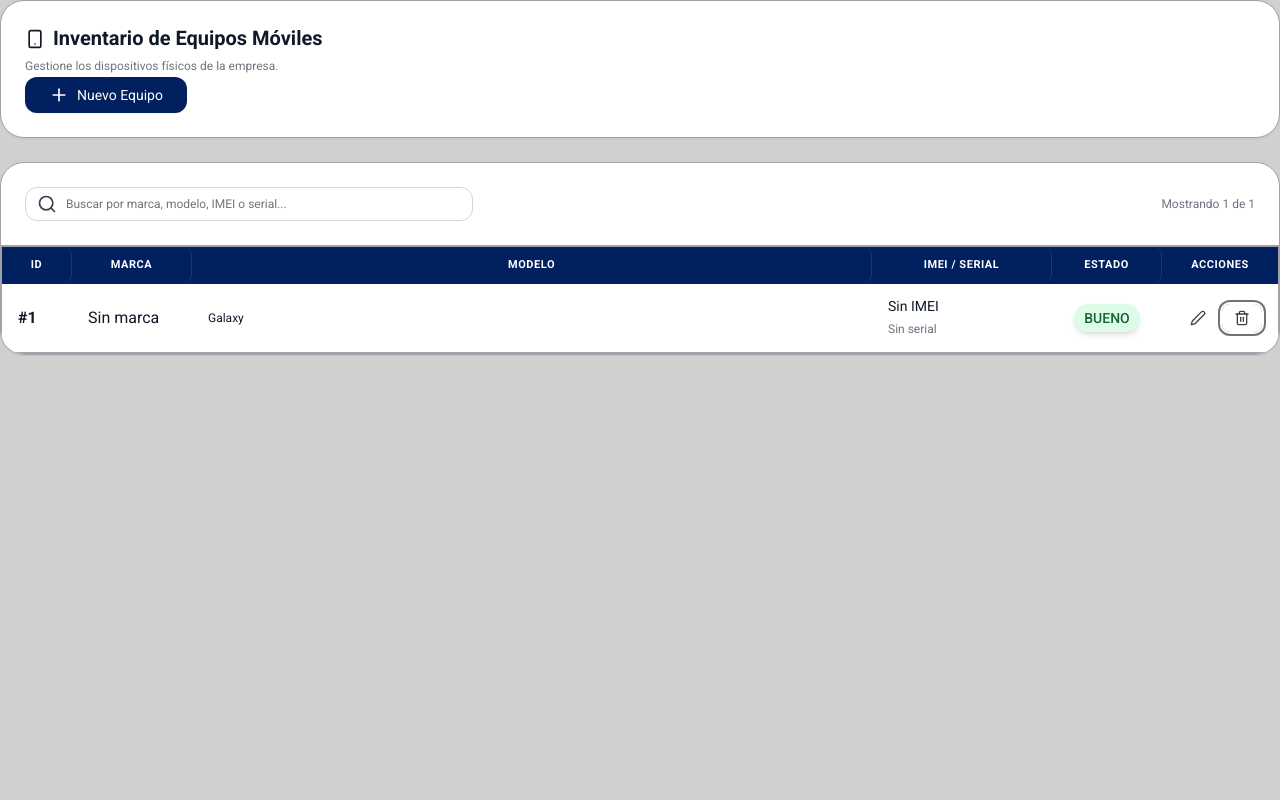
gestores de líneas corporativas › cierra la confirmación con Escape y restaura el foco
Click the button named "Eliminar equipo Galaxy" at (1242, 318), box 1222,304 -> 1262,332
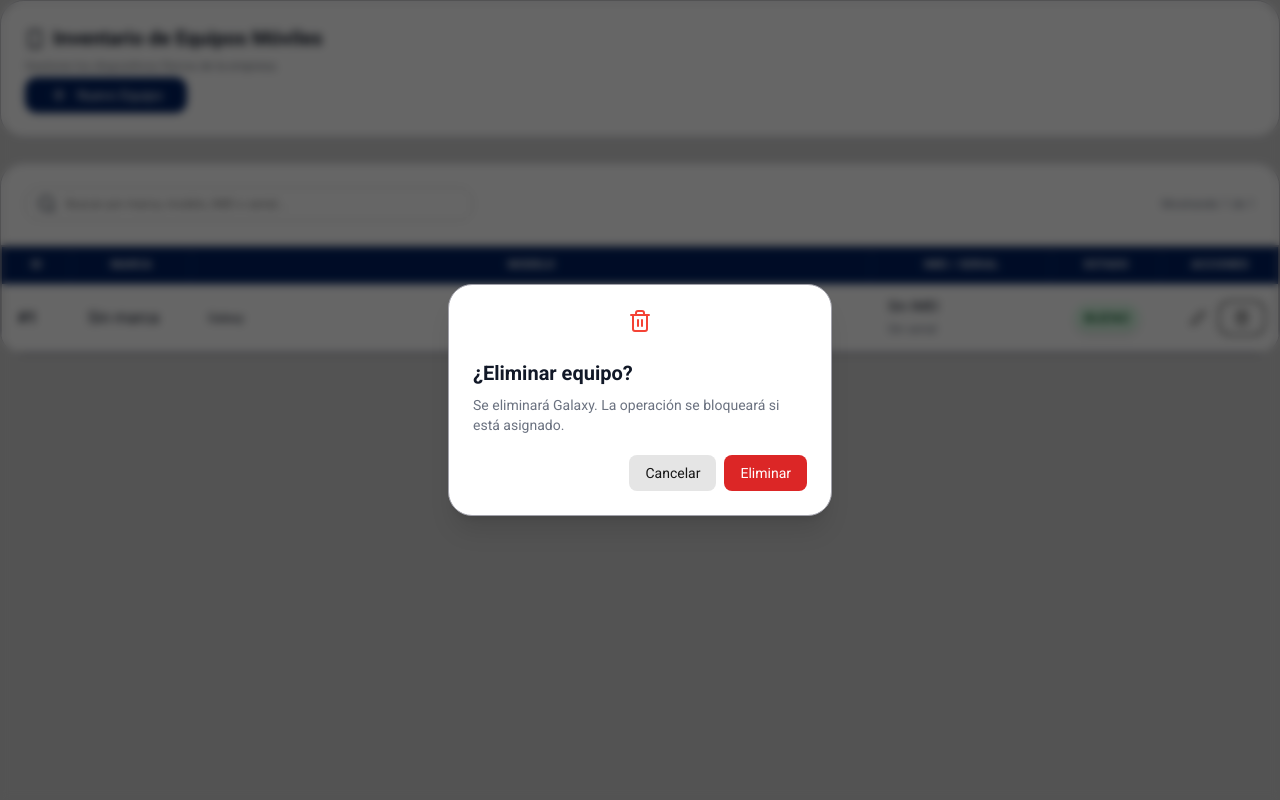
Press Escape
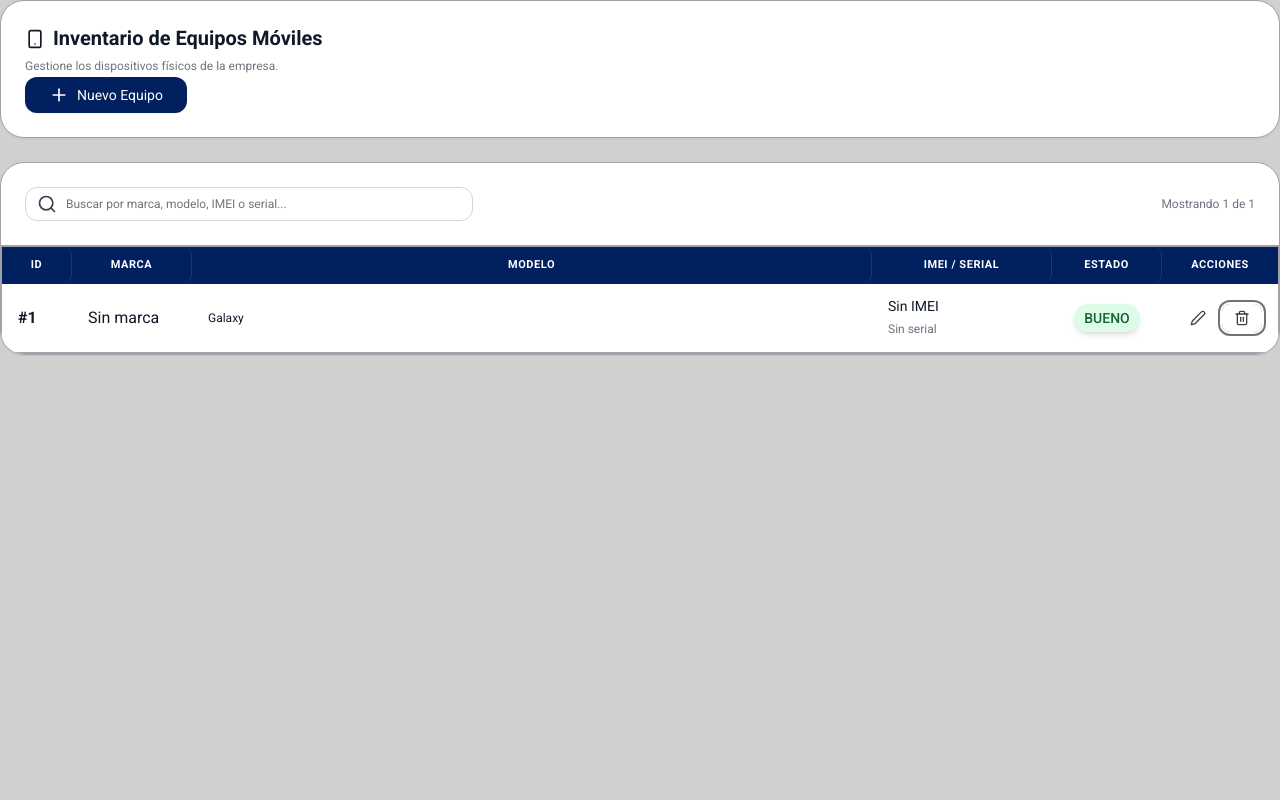
Check: the dialog is gone
